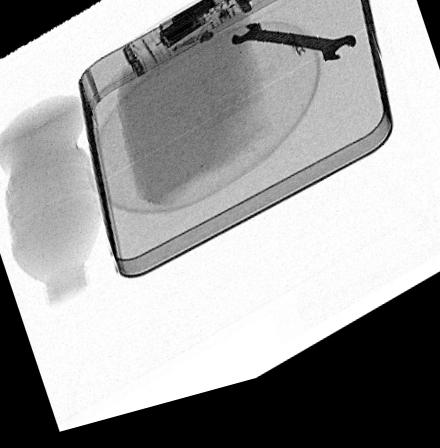Wrench: (228, 36, 357, 79)
